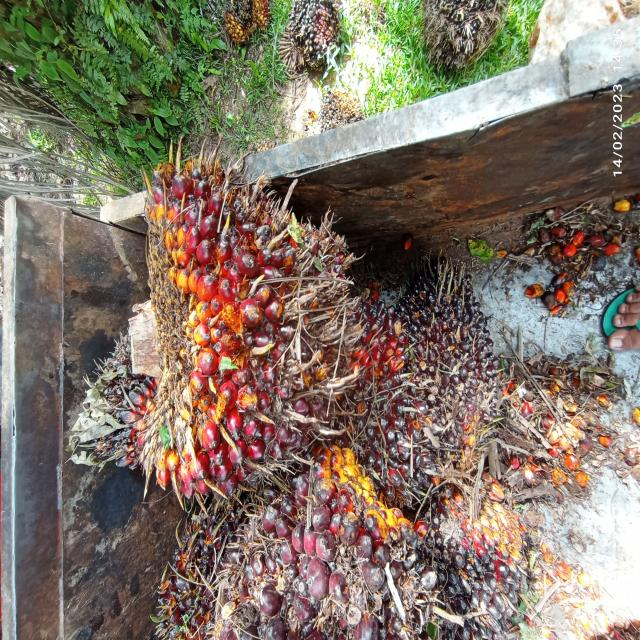fraksi 00: (313, 226, 498, 536)
fraksi 1: (69, 134, 393, 564), (160, 474, 483, 640)
